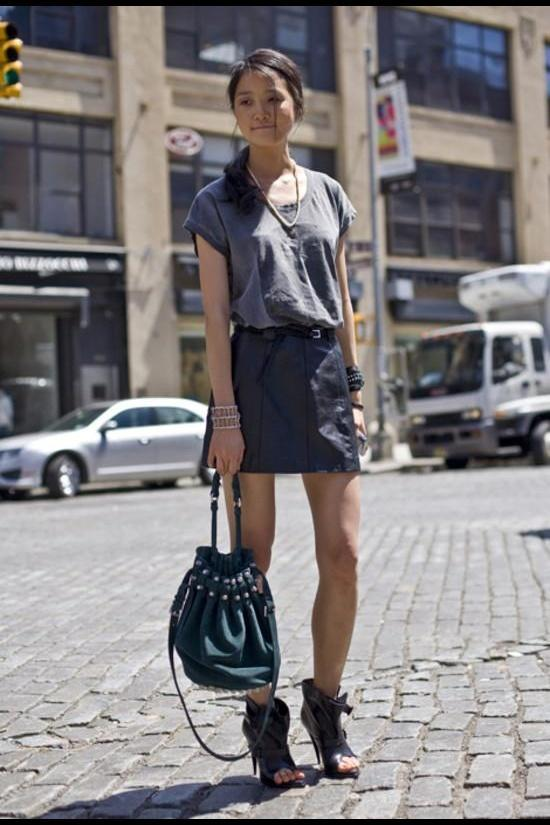Tshirt: (184, 168, 357, 330)
skirt: (186, 327, 362, 476)
